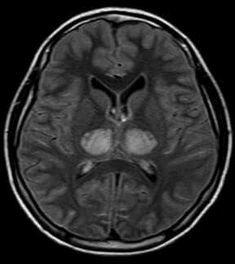Normal_Brain: (1, 11, 235, 264)
